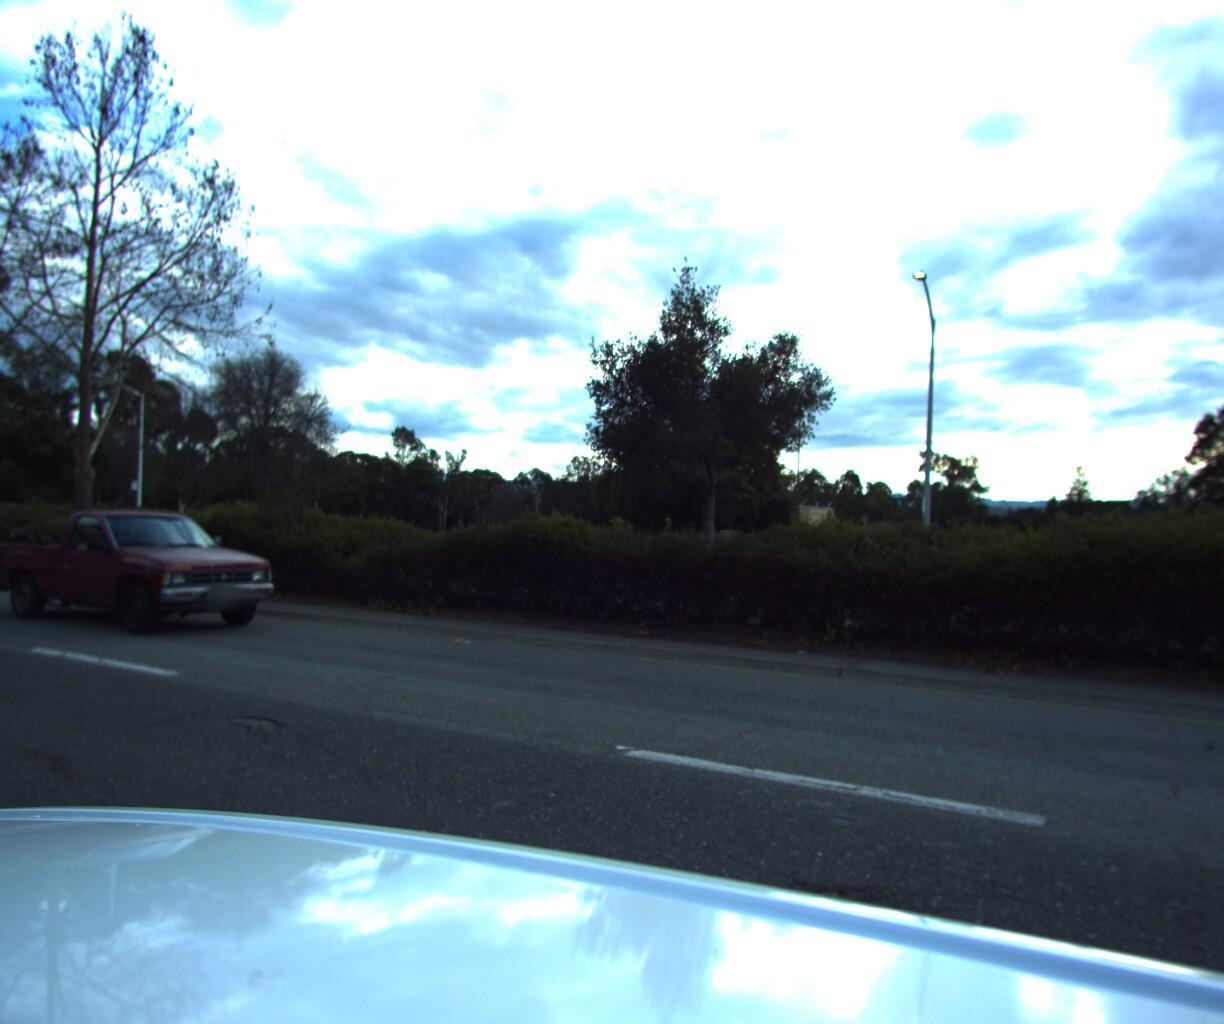car: (0, 500, 300, 642)
